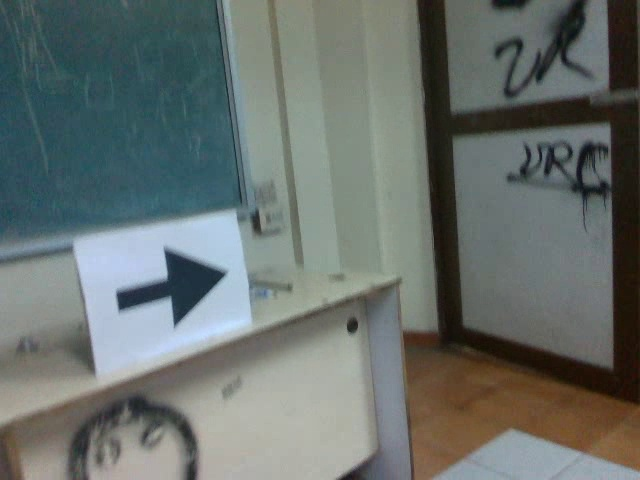Right: (108, 242, 229, 327)
